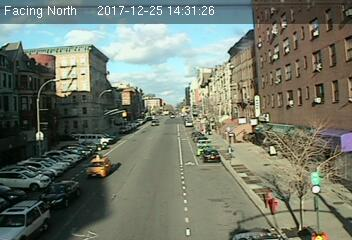car: (1, 197, 51, 240), (38, 180, 80, 209), (85, 154, 112, 177), (200, 148, 220, 161)
